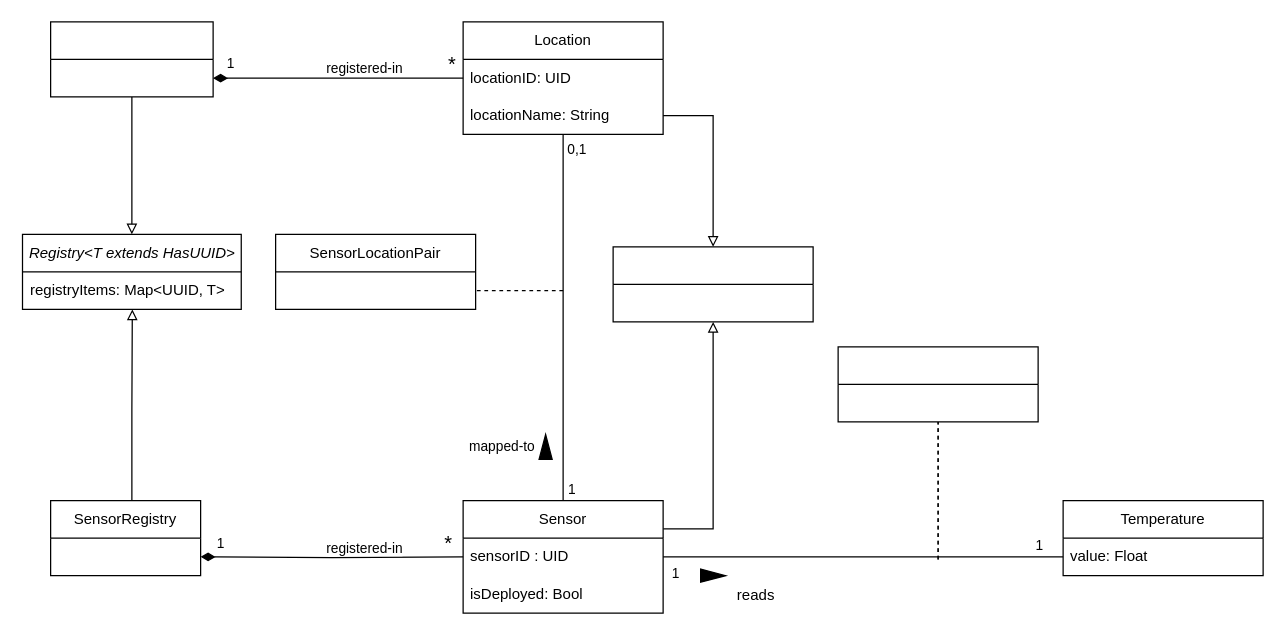
Some shapes in this 1285 by 635 pixel diagram are drawn without their labels. Each missing label, with the centre of its shape:
HasUUID: [712,284]
MapRegistry: [131,59]
SensorTemperaturePair: [937,384]
